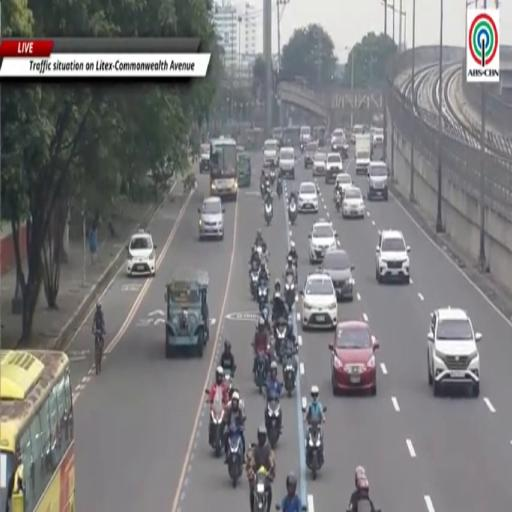bus: (0, 350, 75, 511), (210, 138, 238, 200)
car: (428, 308, 482, 396), (330, 320, 378, 395), (301, 272, 337, 330), (376, 230, 410, 283), (322, 249, 354, 300), (126, 230, 156, 277), (309, 219, 337, 264), (198, 197, 224, 239), (367, 162, 388, 200), (342, 186, 365, 218), (298, 182, 318, 212), (279, 147, 296, 179), (326, 153, 342, 179), (335, 173, 353, 195), (264, 139, 278, 167), (331, 135, 348, 158), (304, 141, 318, 168), (313, 152, 326, 177), (200, 143, 210, 173), (351, 124, 364, 145), (331, 128, 344, 145), (372, 127, 383, 147), (300, 125, 311, 143)
motorcycle: (209, 388, 225, 457), (305, 423, 323, 478), (306, 424, 323, 479), (228, 428, 243, 488), (265, 399, 281, 450), (252, 468, 269, 511), (274, 320, 288, 360), (283, 354, 296, 396), (254, 352, 267, 392), (285, 274, 296, 310), (250, 264, 259, 299), (224, 368, 234, 399), (258, 282, 268, 310), (259, 259, 269, 282), (288, 201, 297, 225), (357, 499, 372, 511), (265, 202, 272, 226), (264, 179, 272, 198), (335, 191, 341, 213), (277, 176, 282, 198), (260, 183, 266, 199), (270, 168, 275, 184), (300, 141, 305, 153), (301, 505, 307, 511)
truck: (355, 135, 371, 174)
